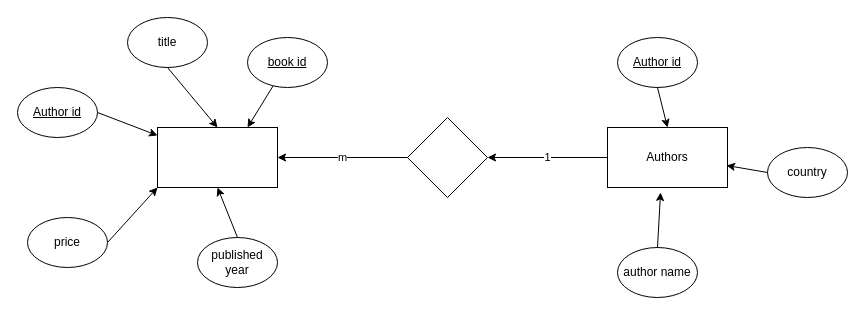
Some shapes in this 865 by 315 pixel diagram are drawn without their labels. The box of each missing label's shape, as (x1, y1, x2, y2) in pixels:
Books: (156, 126, 278, 188)
writes: (406, 116, 488, 198)
